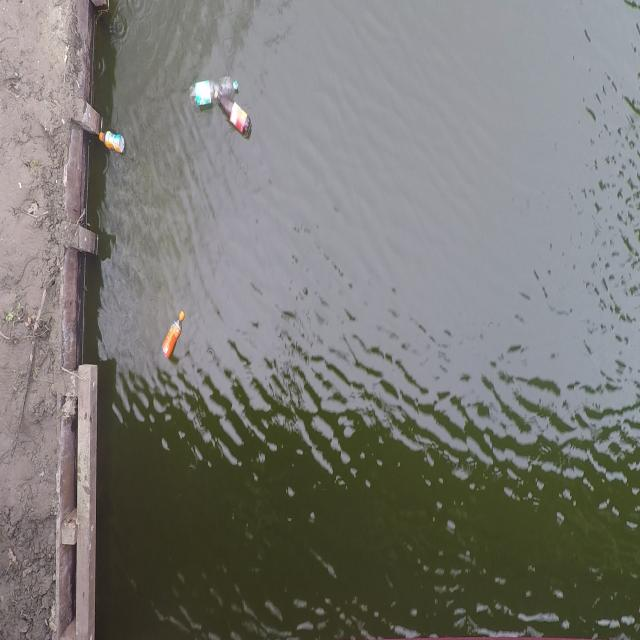Bouteille plastique: (184, 74, 248, 120), (211, 90, 258, 142), (159, 305, 187, 365), (98, 128, 127, 160)
